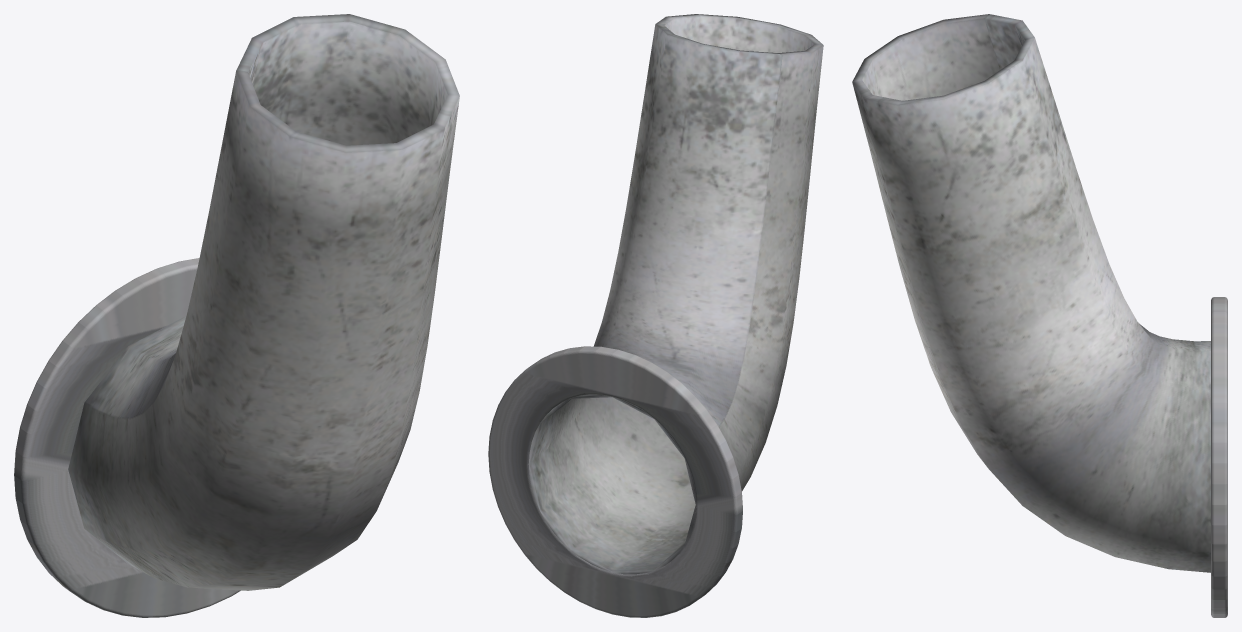
The model's file is turboBig_exhaust_outlet_straight_tube.fbx.
3 renders of one model, left to right at view 1: azimuth 30°, elevation 25°; view 2: azimuth 150°, elevation 25°; view 3: azimuth 270°, elevation 25°, orthographic. The views are drawn at different scales.
Parts seen in each view (by area): view 1: turboBig_exhaust_outlet_straight_tube; view 2: turboBig_exhaust_outlet_straight_tube; view 3: turboBig_exhaust_outlet_straight_tube.
Part boxes in pixels (<box>): turboBig_exhaust_outlet_straight_tube: <box>14,14,459,617</box>; turboBig_exhaust_outlet_straight_tube: <box>488,14,823,617</box>; turboBig_exhaust_outlet_straight_tube: <box>852,14,1227,617</box>.
Size of the model in its own units: 9.6 by 18.65 by 11.23.
Materials: 1 (1 with a texture image).
